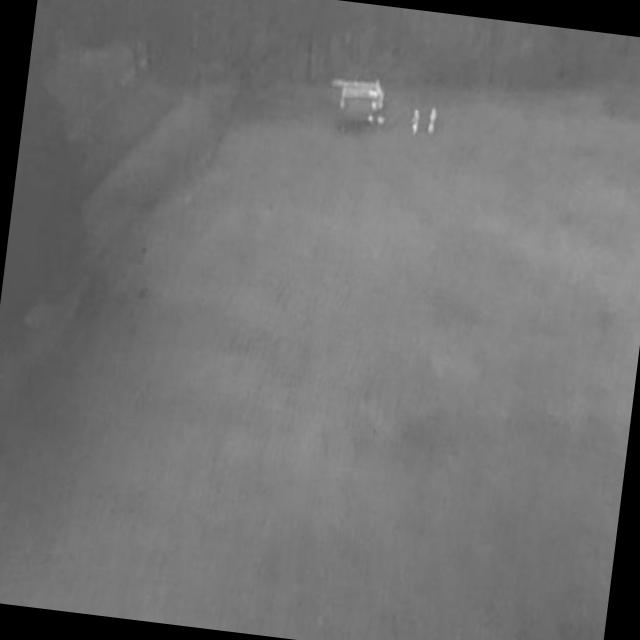person: (426, 106, 438, 137), (410, 108, 422, 137)
